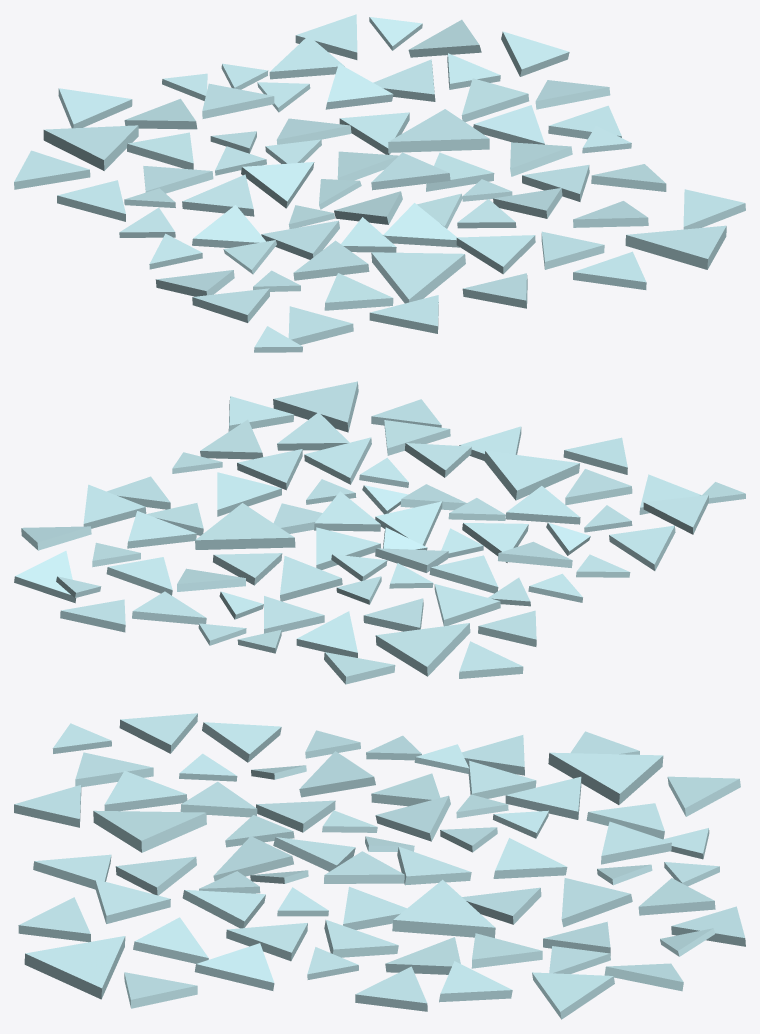
File: Item_MatShatteredGlass.fbx
3 views of the same model, one above another, from view 1: azimuth 30°, elevation 25°; view 2: azimuth 150°, elevation 25°; view 3: azimuth 270°, elevation 25° (orthographic). The views are drawn at different scales.
Parts seen in each view (by area): view 1: glass; view 2: glass; view 3: glass.
Part boxes in pixels (x1=…): glass: x1=14, y1=14, x2=745, y2=352; glass: x1=14, y1=381, x2=745, y2=684; glass: x1=14, y1=713, x2=745, y2=1019.
Bounding box in the file's own units: 0.7468 × 0.0435 × 0.804.
